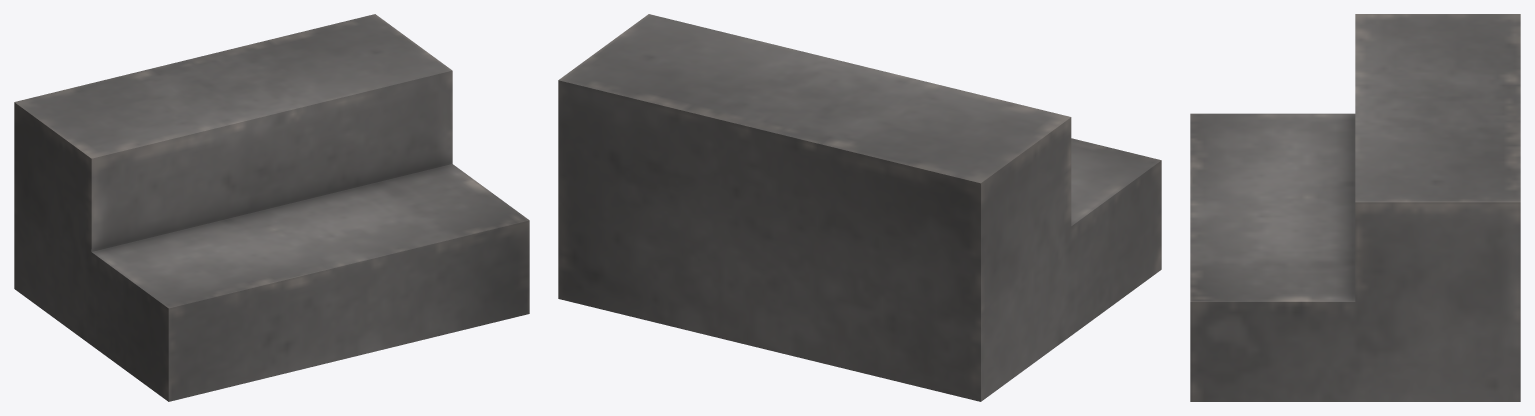
Rendered from SM_Tribines_Steps_C.fbx.
3 views of the same model, side by side, from view 1: azimuth 30°, elevation 25°; view 2: azimuth 150°, elevation 25°; view 3: azimuth 270°, elevation 25° (orthographic). The views are drawn at different scales.
Parts seen in each view (by area): view 1: SM_Tribines_Steps_C; view 2: SM_Tribines_Steps_C; view 3: SM_Tribines_Steps_C.
Boxes of the visible parts, x1,y1,x2,y2 form: SM_Tribines_Steps_C: (14, 14, 529, 401); SM_Tribines_Steps_C: (558, 14, 1161, 401); SM_Tribines_Steps_C: (1190, 14, 1520, 401).
Bounding box in the file's own units: 80.85 × 59.92 × 39.97.
Materials: 1 (1 with a texture image).
